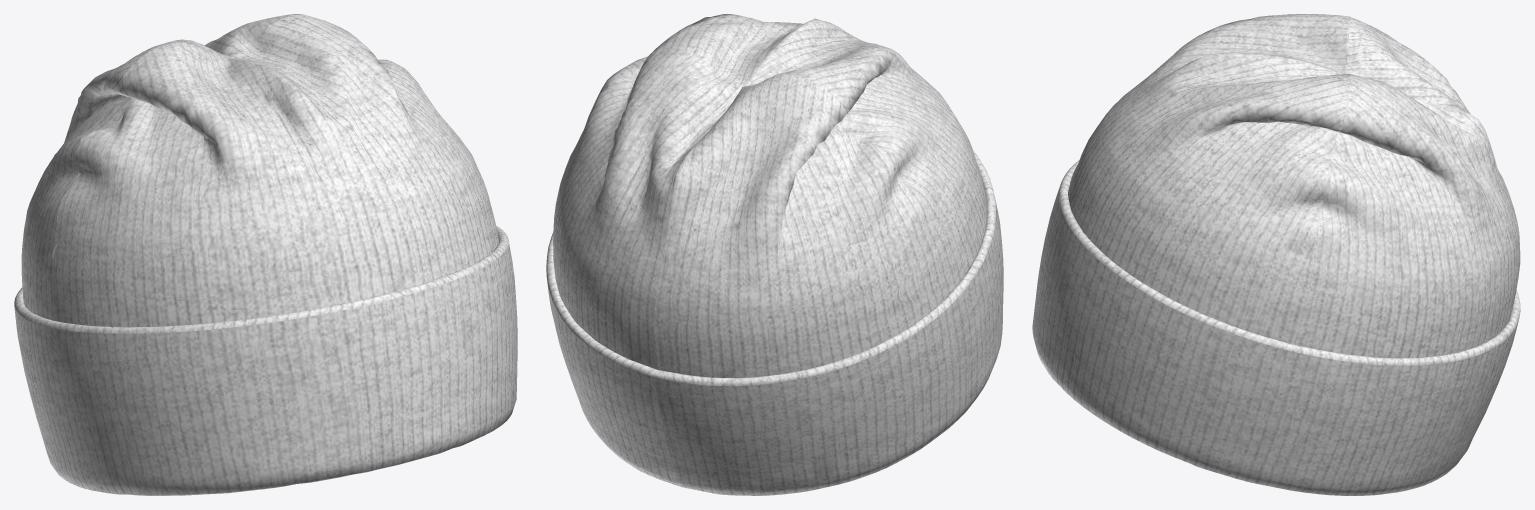
File: beanie.glb
3 renders of one model, left to right at view 1: azimuth 30°, elevation 25°; view 2: azimuth 150°, elevation 25°; view 3: azimuth 270°, elevation 25°, orthographic. The views are drawn at different scales.
Visible parts, largest first — view 1: Object_6; view 2: Object_6; view 3: Object_6.
Part boxes in pixels (bbox=[...]): Object_6: bbox=[14, 14, 517, 495]; Object_6: bbox=[546, 14, 1003, 495]; Object_6: bbox=[1032, 14, 1520, 495].
Size of the model in its own units: 1 by 0.9489 by 1.06.
1 material, 1 textured.
